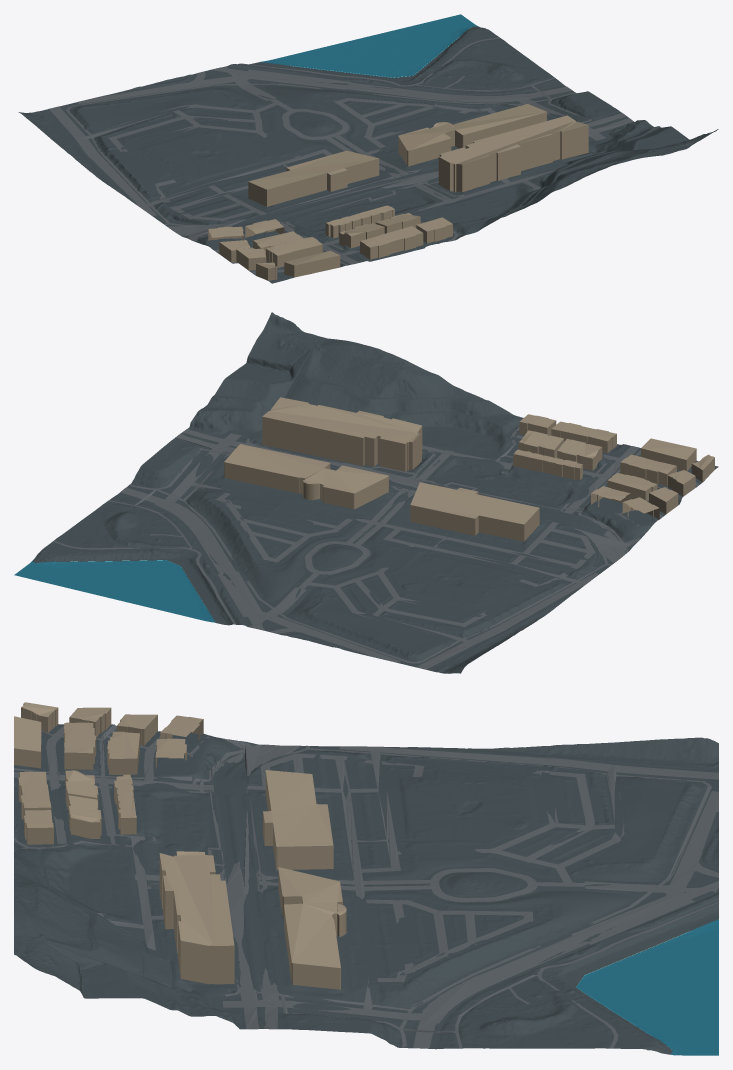
The model's file is epsg26910-1441-10869.lod0.glb.
The picture shows the model from 3 angles, top to bottom: view 1: azimuth 30°, elevation 25°; view 2: azimuth 150°, elevation 25°; view 3: azimuth 270°, elevation 25°; orthographic projection. The views are drawn at different scales.
Visible parts, largest first — view 1: epsg26910-1441-10869-lod0; view 2: epsg26910-1441-10869-lod0; view 3: epsg26910-1441-10869-lod0.
Boxes of the visible parts, bbox=[...] form: epsg26910-1441-10869-lod0: bbox=[18, 14, 718, 283]; epsg26910-1441-10869-lod0: bbox=[14, 312, 718, 673]; epsg26910-1441-10869-lod0: bbox=[14, 702, 718, 1055].
Bounding box in the file's own units: 384 × 60.83 × 384.
